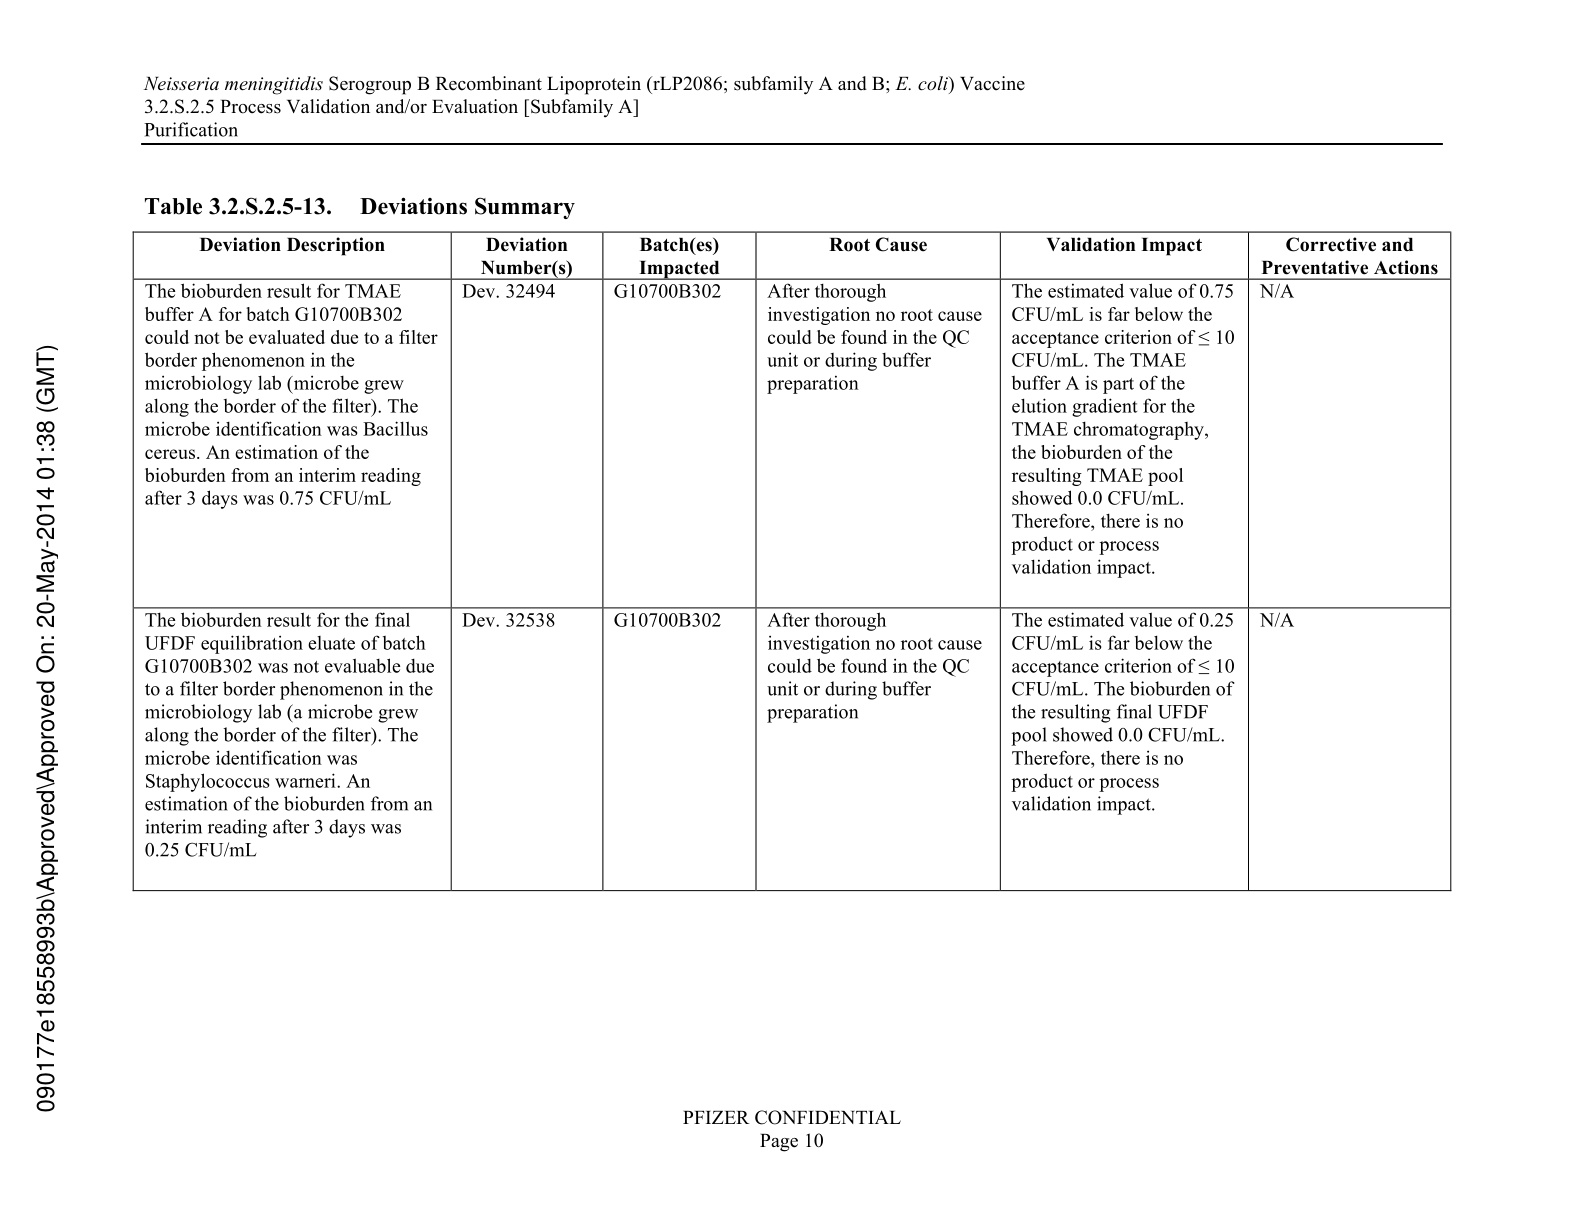full_lined: (131, 230, 1452, 892)
